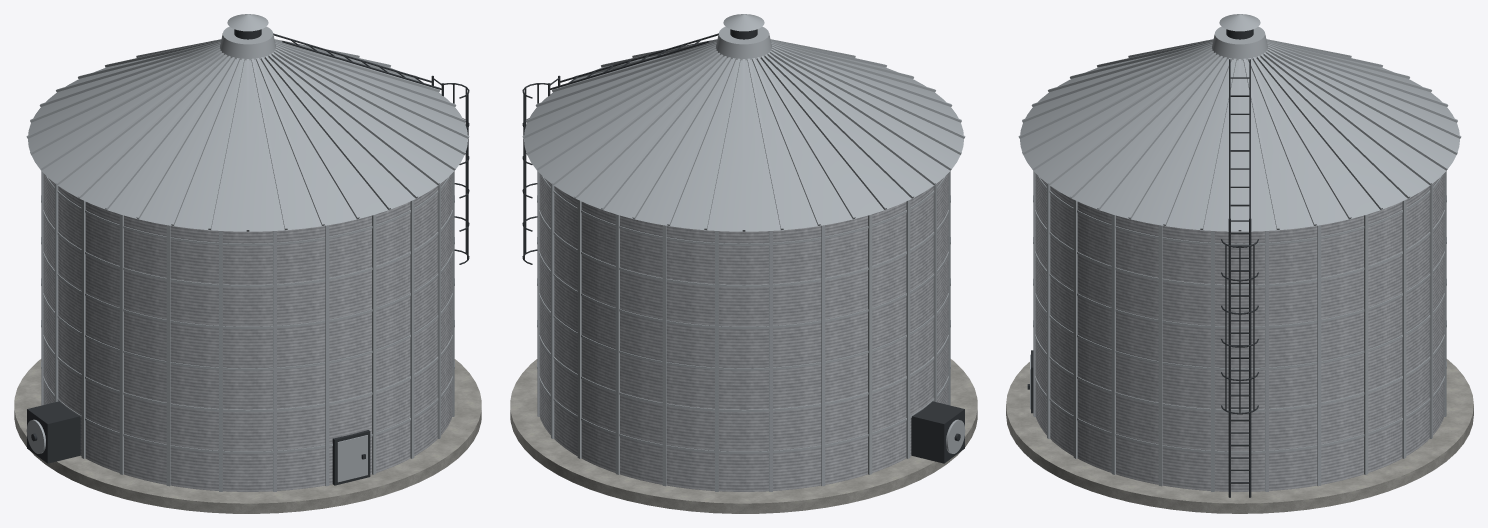
The model's file is grain-bin.glb.
3 views of the same model, side by side, from view 1: azimuth 30°, elevation 25°; view 2: azimuth 150°, elevation 25°; view 3: azimuth 270°, elevation 25° (orthographic).
Parts seen in each view (by area): view 1: GrainBin; view 2: GrainBin; view 3: GrainBin.
Boxes of the visible parts, x1,y1,x2,y2 form: GrainBin: (14,14,481,513); GrainBin: (510,14,977,513); GrainBin: (1006,14,1473,513).
Bounding box in the file's own units: 10.93 × 9.64 × 10.2.
Materials: 4 (2 with a texture image).
